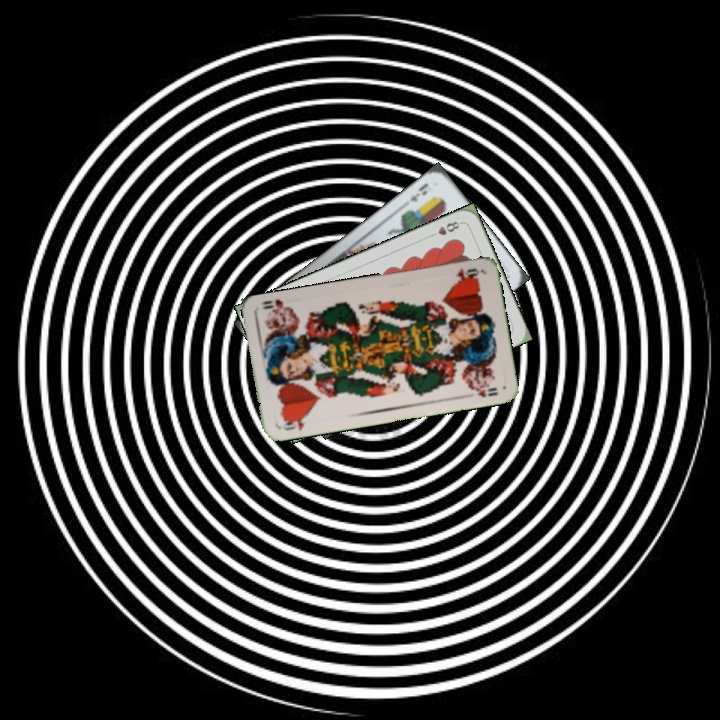EK: (406, 179, 431, 205)
H8: (426, 217, 464, 240)
HO: (276, 412, 312, 433), (452, 264, 482, 284)
